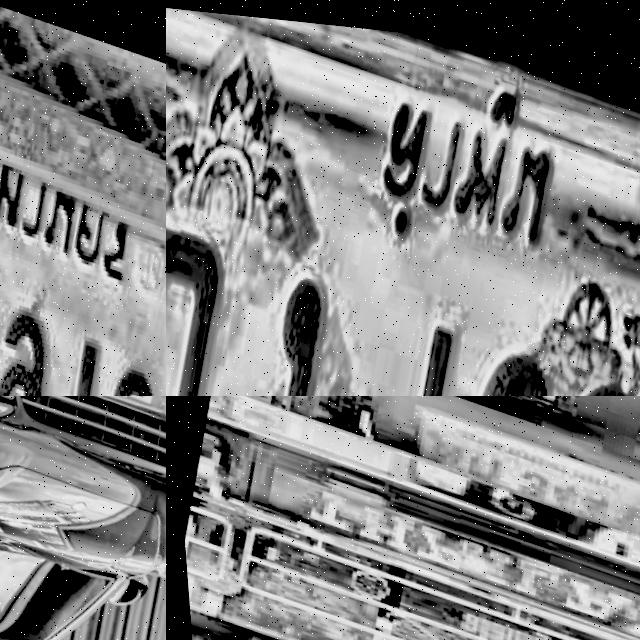license-plate: (166, 0, 640, 396), (0, 0, 166, 396), (397, 396, 640, 537)
